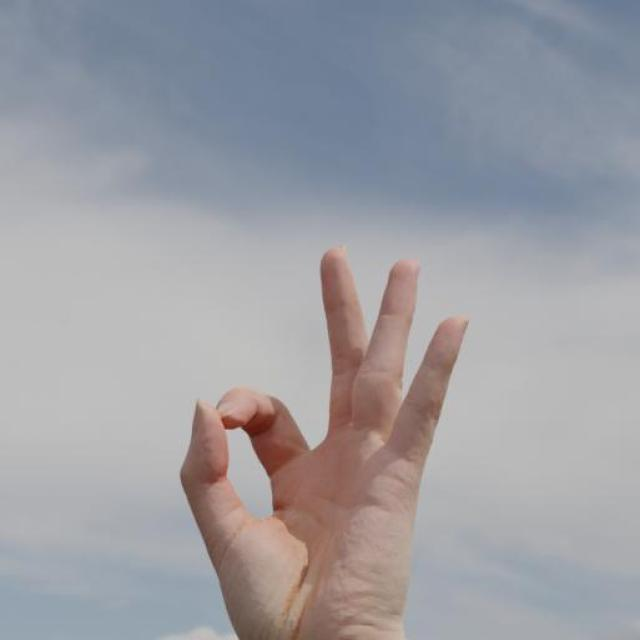F: (170, 241, 474, 640)
